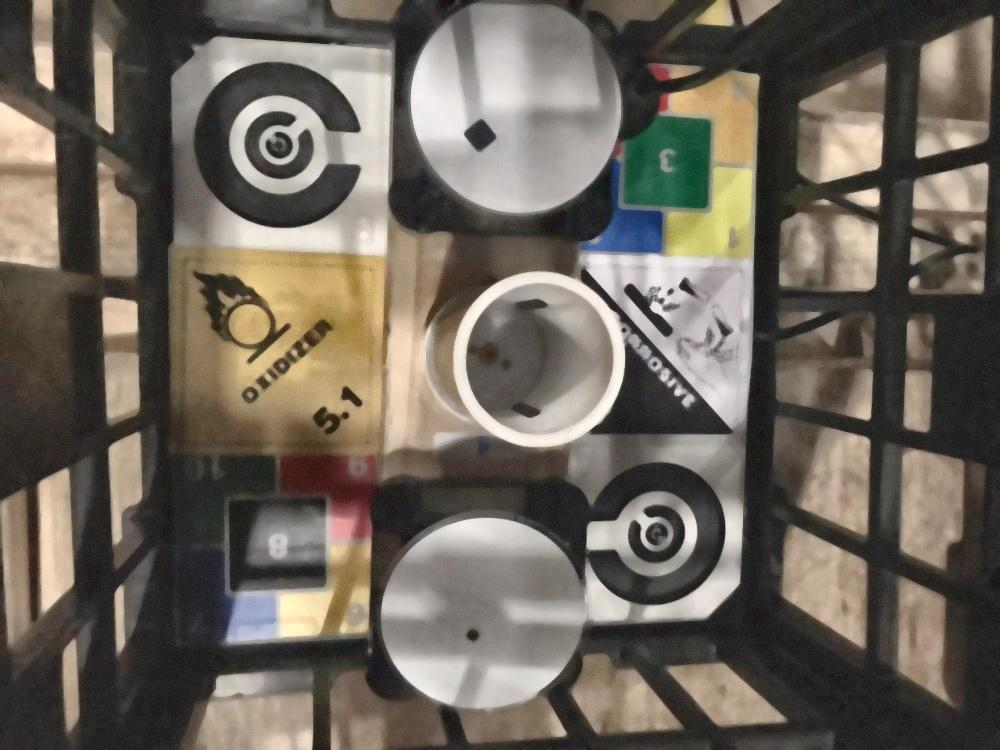corrosive: (574, 256, 753, 436)
oxidizer: (168, 248, 385, 459)
